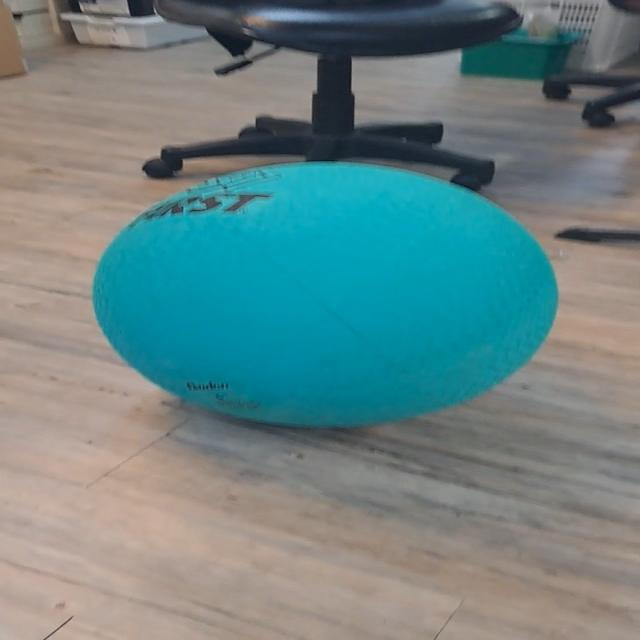ALGAE: (89, 159, 560, 430)
